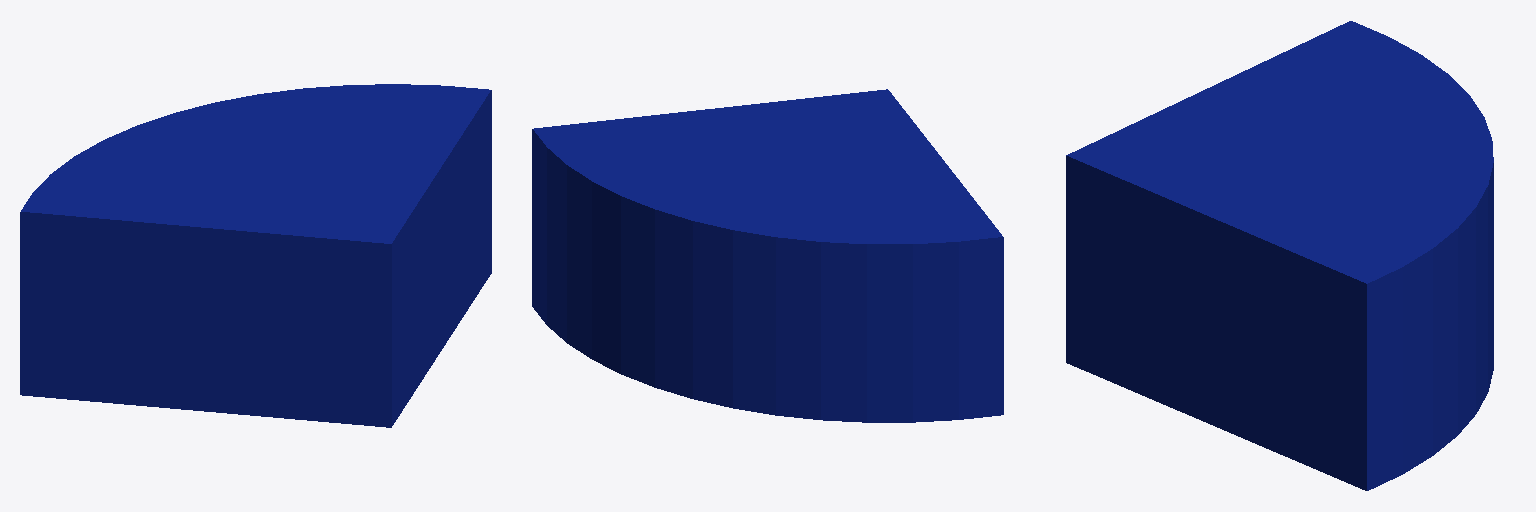
The robot description file, URDF, robot "block":
<robot name="block">
  <link name="block_base_link">

    <inertial>
      <origin rpy="0 0 0" xyz="-0.01060 0.02452 0.015"/>
      <mass value="0.05"/>
      <inertia ixx="1.7585e-05" ixy="3.03e-07" ixz="0.0" iyy="2.9306e-05" iyz="0.0" izz="3.5339e-05"/>
    </inertial>
    <collision>
      
      <geometry>
        <mesh filename="26.STL" scale="1 1 1"/>
      </geometry>
    </collision>
    <visual>
 
      <geometry>
        <mesh filename="26.STL" scale="1 1 1"/>
      </geometry>
      <material name="tray_material">
        <color rgba="0.1 0.2 0.6 1"/>
      </material>
    </visual>
  </link>
</robot>

--- What the picture shows (computed from the rendered views, not written in the file) ---
3 views of the same robot in one strip: view 1: azimuth 30°, elevation 25°; view 2: azimuth 150°, elevation 25°; view 3: azimuth 270°, elevation 25° (orthographic).
Model block with 1 links and 0 joints (none), rooted at block_base_link, posed every joint at zero.
Links seen in each view (by area): view 1: block_base_link; view 2: block_base_link; view 3: block_base_link.
Link boxes in pixels (bbox=[...]): block_base_link: bbox=[20, 84, 491, 427]; block_base_link: bbox=[532, 89, 1003, 422]; block_base_link: bbox=[1066, 21, 1493, 490].
Size in the robot's own frame: 0.0817 by 0.056 by 0.03 metres.
1 mesh visuals loaded from 1 distinct referenced files (1 binary STL).